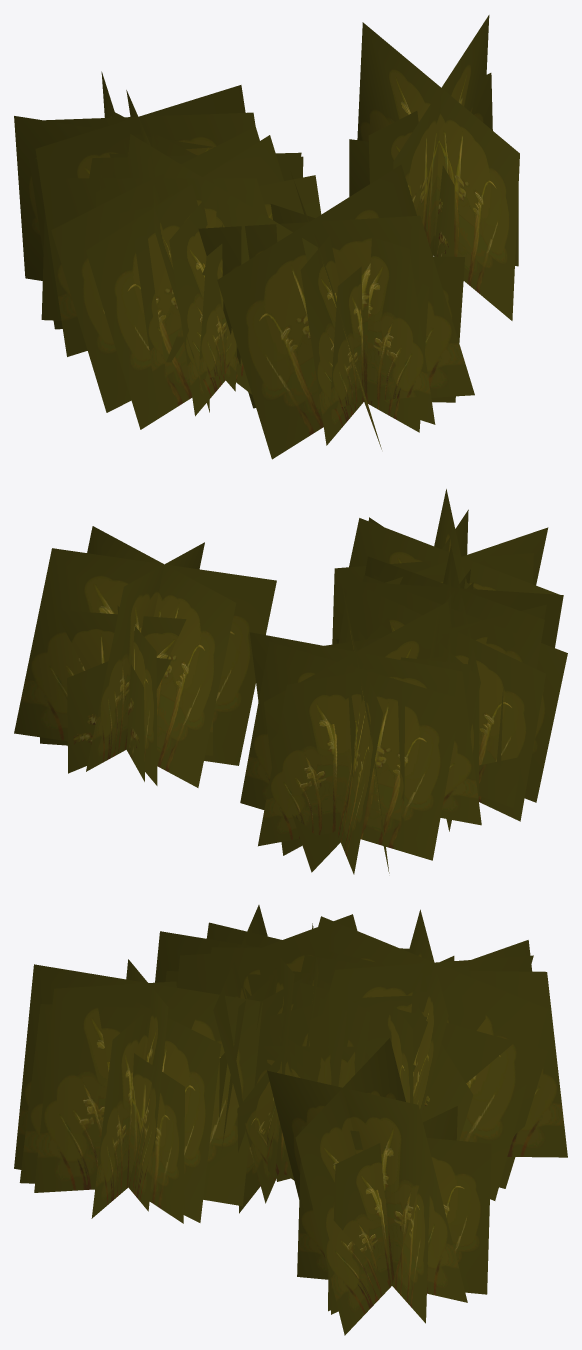
The model's file is hut_swampfern2.glb.
3 views of the same model, one above another, from view 1: azimuth 30°, elevation 25°; view 2: azimuth 150°, elevation 25°; view 3: azimuth 270°, elevation 25° (orthographic). The views are drawn at different scales.
Visible parts, largest first — view 1: hut_swampfern2_a, hut_swampfern2_c, hut_swampfern2_b; view 2: hut_swampfern2_a, hut_swampfern2_b, hut_swampfern2_c; view 3: hut_swampfern2_a, hut_swampfern2_c, hut_swampfern2_b.
Boxes of the visible parts, x1,y1,x2,y2 form: hut_swampfern2_a: (14,71,321,429); hut_swampfern2_c: (198,164,474,459); hut_swampfern2_b: (349,15,519,320); hut_swampfern2_a: (240,546,567,874); hut_swampfern2_b: (14,526,276,787); hut_swampfern2_c: (332,489,558,644); hut_swampfern2_a: (155,905,567,1213); hut_swampfern2_c: (14,959,262,1223); hut_swampfern2_b: (267,1038,491,1335).
Bounding box in the file's own units: 1.08 × 0.4869 × 0.993.
1 material, 1 textured.
